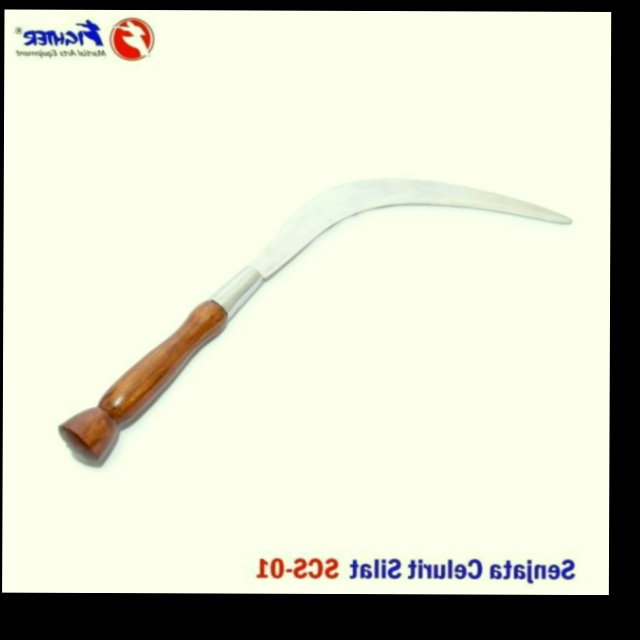Sharp-Object: (44, 138, 596, 476)
